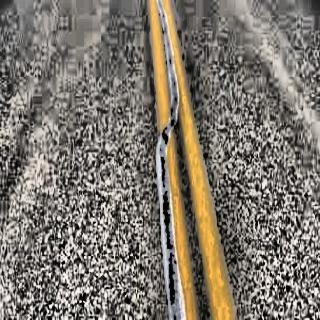crack: (150, 0, 184, 320)
